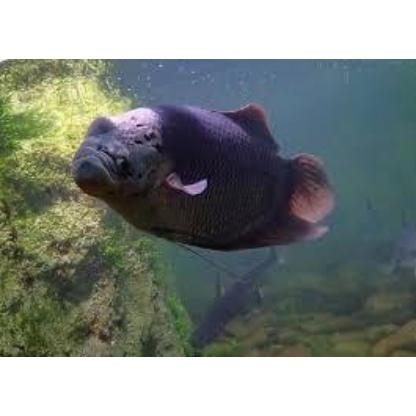gurame: (66, 99, 338, 251)
